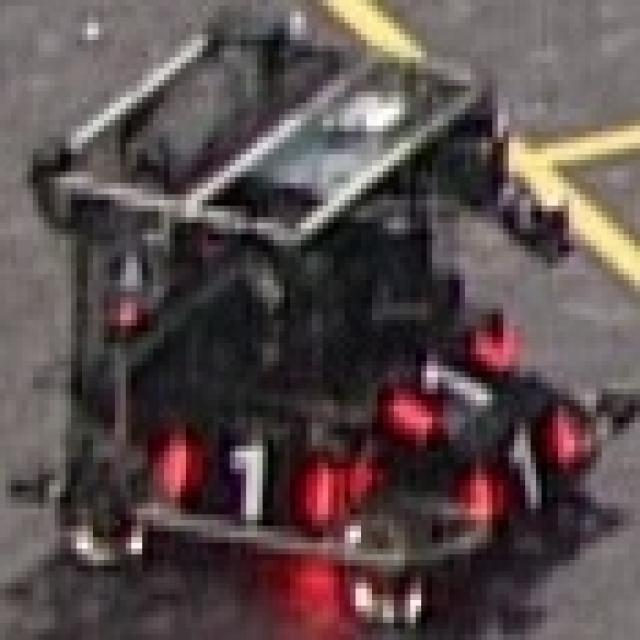R1: (153, 423, 345, 520), (465, 406, 596, 537), (383, 326, 520, 446)
